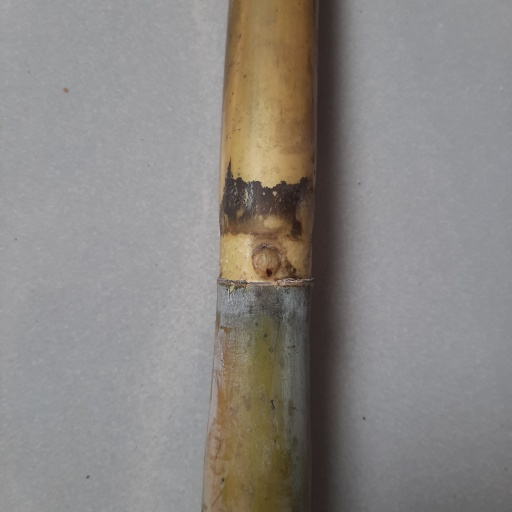Bud: (251, 247, 281, 284)
